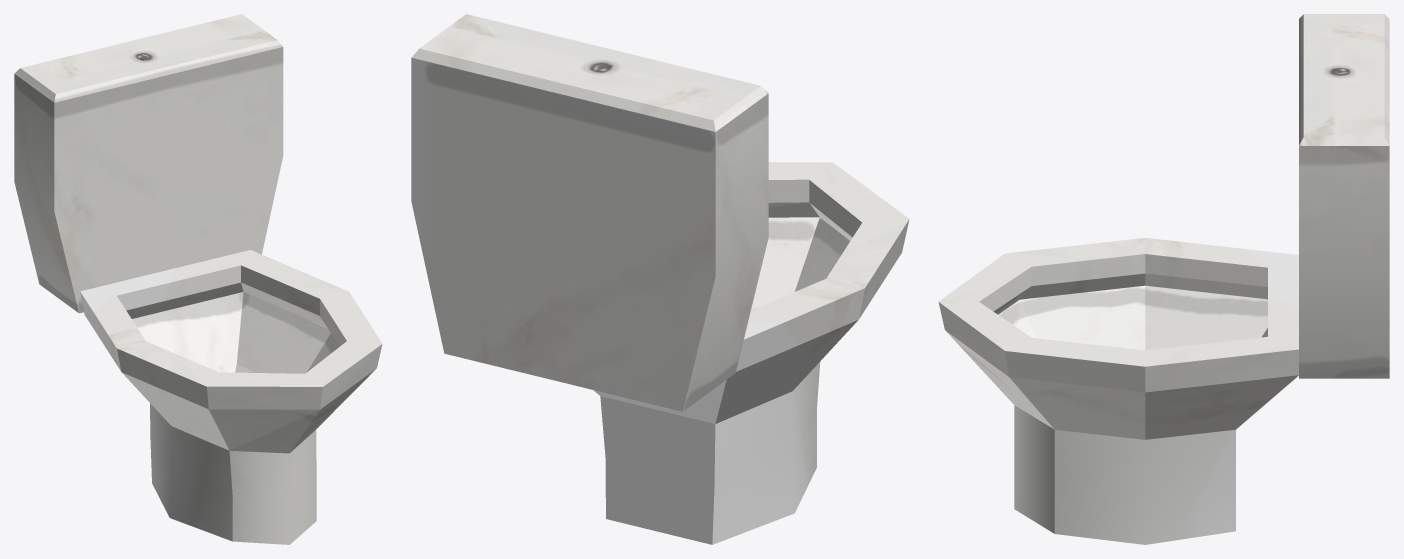
3 renders of one model, left to right at view 1: azimuth 30°, elevation 25°; view 2: azimuth 150°, elevation 25°; view 3: azimuth 270°, elevation 25°, orthographic. The views are drawn at different scales.
Parts seen in each view (by area): view 1: WC; view 2: WC; view 3: WC.
Boxes of the visible parts, x1=… form: WC: x1=14, y1=14, x2=382, y2=544; WC: x1=411, y1=14, x2=909, y2=544; WC: x1=938, y1=14, x2=1389, y2=544.
Bounding box in the file's own units: 50.86 × 79.66 × 74.66.
